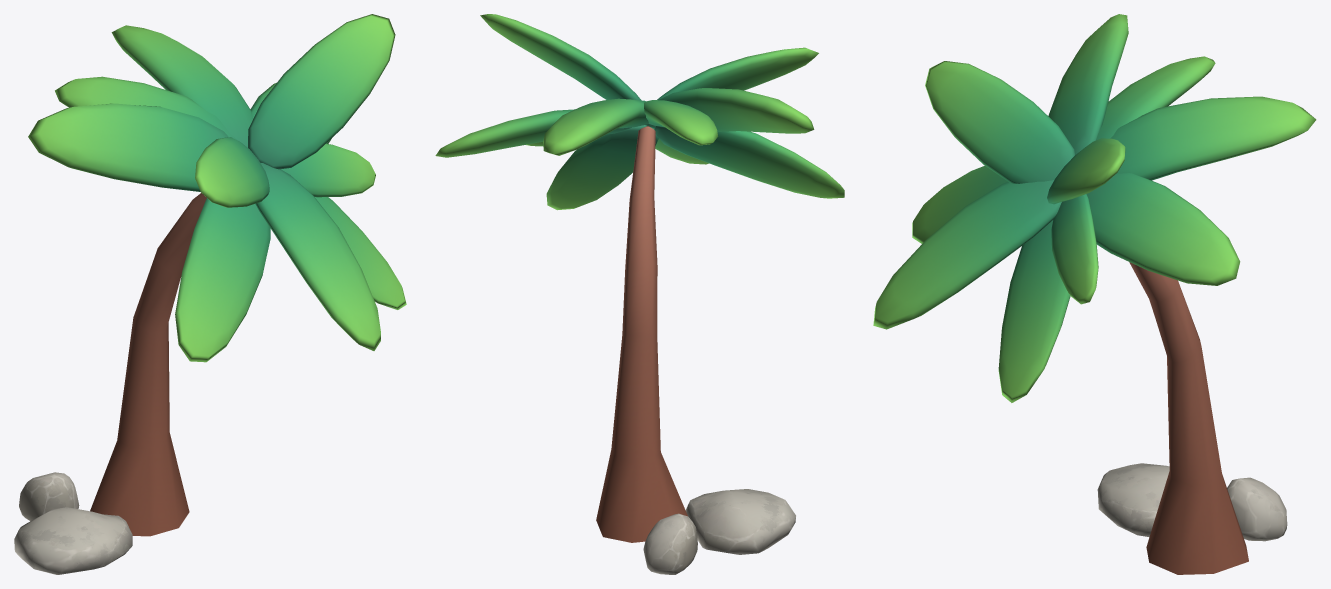
The model's file is Palm_02.fbx.
3 views of the same model, side by side, from view 1: azimuth 30°, elevation 25°; view 2: azimuth 150°, elevation 25°; view 3: azimuth 270°, elevation 25° (orthographic). The views are drawn at different scales.
Parts seen in each view (by area): view 1: Palm_02; view 2: Palm_02; view 3: Palm_02.
Boxes of the visible parts, <box> form: Palm_02: <box>14,14,406,574</box>; Palm_02: <box>435,14,844,574</box>; Palm_02: <box>873,14,1316,574</box>.
Size of the model in its own units: 87.98 by 114 by 90.1.
